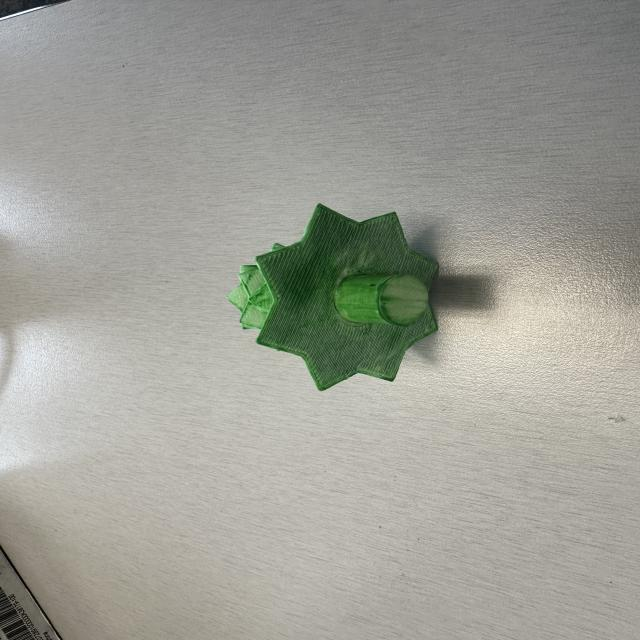tree: (222, 203, 440, 390)
